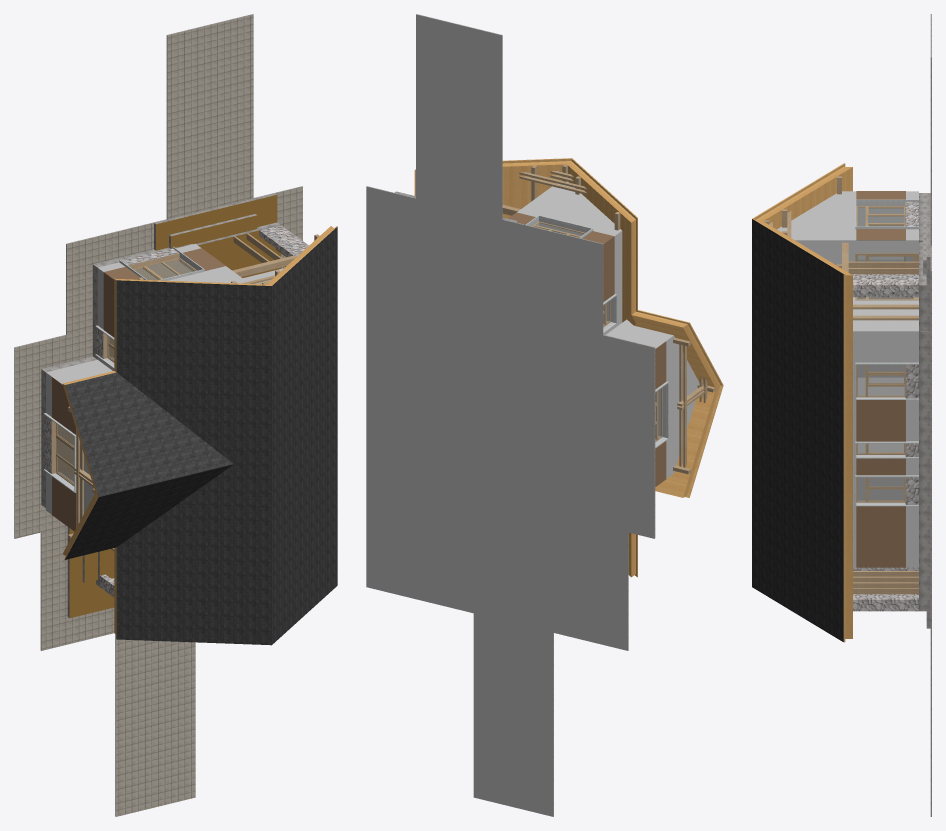
File: Country House Sylvania.obj
The picture shows the model from 3 angles, left to right: view 1: azimuth 30°, elevation 25°; view 2: azimuth 150°, elevation 25°; view 3: azimuth 270°, elevation 25°; orthographic projection. The views are drawn at different scales.
Visible parts, largest first — view 1: Shell_-_Roof Roof_Tiles_-_Asphalt_Shingle_Gray, Structural_-_Bearing Tiles_-_Tan_30x30, Structural_-_Bearing Paint_-_Golden_Ochre, Structural_-_Bearing Concrete_-_04, Structural_-_Bearing Wood_-_Pine_Grained_Horizontal, Structural_-_Bearing Paint_-_Glossy_White, Structural_-_Bearing Paint_-_Sienna_Sand, Shell_-_Roof Wood_-_Oak_Light, Structural_-_Bearing Stonework_-_12, Structural_-_Bearing Glass_-_Clear_Fast, Structural_-_Bearing Metal_-_Zinc, Structural_-_Bearing Wood_-_Pine_Grained_Vertical; view 2: Structural_-_Bearing Paint_-_Glossy_White, Shell_-_Roof Wood_-_Oak_Light, Structural_-_Bearing Wood_-_Pine_Grained_Horizontal, Structural_-_Bearing Paint_-_Sienna_Sand, Structural_-_Bearing Concrete_-_04, Structural_-_Bearing Metal_-_Zinc; view 3: Shell_-_Roof Roof_Tiles_-_Asphalt_Shingle_Gray, Structural_-_Bearing Paint_-_Glossy_White, Structural_-_Bearing Paint_-_Sienna_Sand, Structural_-_Bearing Concrete_-_04, Shell_-_Roof Wood_-_Oak_Light, Structural_-_Bearing Stonework_-_12, Structural_-_Bearing Glass_-_Clear_Fast, Structural_-_Bearing Wood_-_Pine_Grained_Vertical, Structural_-_Bearing Wood_-_Pine_Grained_Horizontal, Structural_-_Bearing Metal_-_Zinc.
Part boxes in pixels (x1=…): Shell_-_Roof Roof_Tiles_-_Asphalt_Shingle_Gray: x1=65, y1=227, x2=337, y2=645; Structural_-_Bearing Tiles_-_Tan_30x30: x1=15, y1=14, x2=302, y2=816; Structural_-_Bearing Paint_-_Golden_Ochre: x1=69, y1=195, x2=281, y2=617; Structural_-_Bearing Concrete_-_04: x1=14, y1=14, x2=302, y2=816; Structural_-_Bearing Wood_-_Pine_Grained_Horizontal: x1=51, y1=234, x2=319, y2=539; Structural_-_Bearing Paint_-_Glossy_White: x1=46, y1=243, x2=283, y2=520; Structural_-_Bearing Paint_-_Sienna_Sand: x1=52, y1=248, x2=225, y2=531; Shell_-_Roof Wood_-_Oak_Light: x1=62, y1=226, x2=337, y2=638; Structural_-_Bearing Stonework_-_12: x1=45, y1=225, x2=308, y2=597; Structural_-_Bearing Glass_-_Clear_Fast: x1=56, y1=259, x2=193, y2=483; Structural_-_Bearing Metal_-_Zinc: x1=43, y1=246, x2=204, y2=492; Structural_-_Bearing Wood_-_Pine_Grained_Vertical: x1=74, y1=233, x2=286, y2=551; Structural_-_Bearing Paint_-_Glossy_White: x1=366, y1=14, x2=699, y2=816; Shell_-_Roof Wood_-_Oak_Light: x1=414, y1=158, x2=723, y2=577; Structural_-_Bearing Wood_-_Pine_Grained_Horizontal: x1=502, y1=164, x2=715, y2=474; Structural_-_Bearing Paint_-_Sienna_Sand: x1=508, y1=212, x2=666, y2=486; Structural_-_Bearing Concrete_-_04: x1=366, y1=14, x2=655, y2=816; Structural_-_Bearing Metal_-_Zinc: x1=526, y1=215, x2=668, y2=448; Shell_-_Roof Roof_Tiles_-_Asphalt_Shingle_Gray: x1=752, y1=219, x2=843, y2=641; Structural_-_Bearing Paint_-_Glossy_White: x1=777, y1=191, x2=918, y2=567; Structural_-_Bearing Paint_-_Sienna_Sand: x1=856, y1=191, x2=905, y2=567; Structural_-_Bearing Concrete_-_04: x1=919, y1=14, x2=931, y2=816; Shell_-_Roof Wood_-_Oak_Light: x1=752, y1=163, x2=852, y2=642; Structural_-_Bearing Stonework_-_12: x1=852, y1=201, x2=918, y2=611; Structural_-_Bearing Glass_-_Clear_Fast: x1=857, y1=207, x2=913, y2=501; Structural_-_Bearing Wood_-_Pine_Grained_Vertical: x1=848, y1=261, x2=918, y2=594; Structural_-_Bearing Wood_-_Pine_Grained_Horizontal: x1=764, y1=176, x2=918, y2=504; Structural_-_Bearing Metal_-_Zinc: x1=855, y1=199, x2=918, y2=506.
Size of the model in its own units: 13.1 by 33.4 by 6.91.
